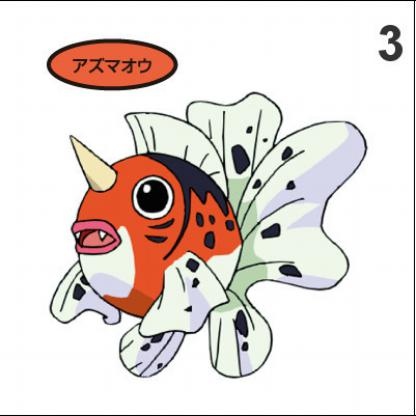Seaking: (43, 88, 365, 383)
